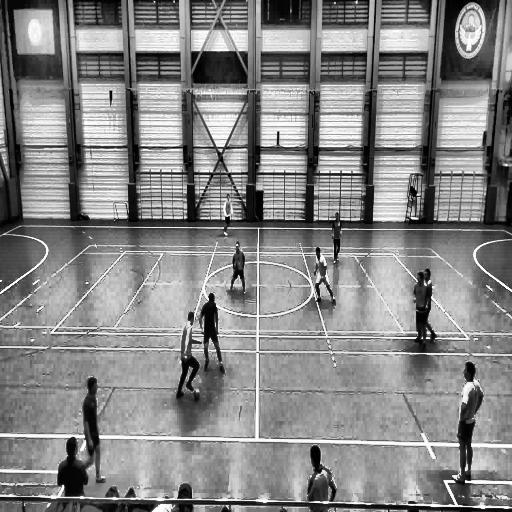ball: (193, 389, 200, 400)
player: (452, 361, 483, 481), (178, 310, 204, 398), (84, 377, 106, 476), (198, 293, 224, 373), (306, 446, 337, 512), (420, 269, 437, 347), (414, 270, 430, 352), (314, 247, 334, 304), (231, 242, 245, 294), (331, 211, 341, 258), (223, 193, 232, 232)
